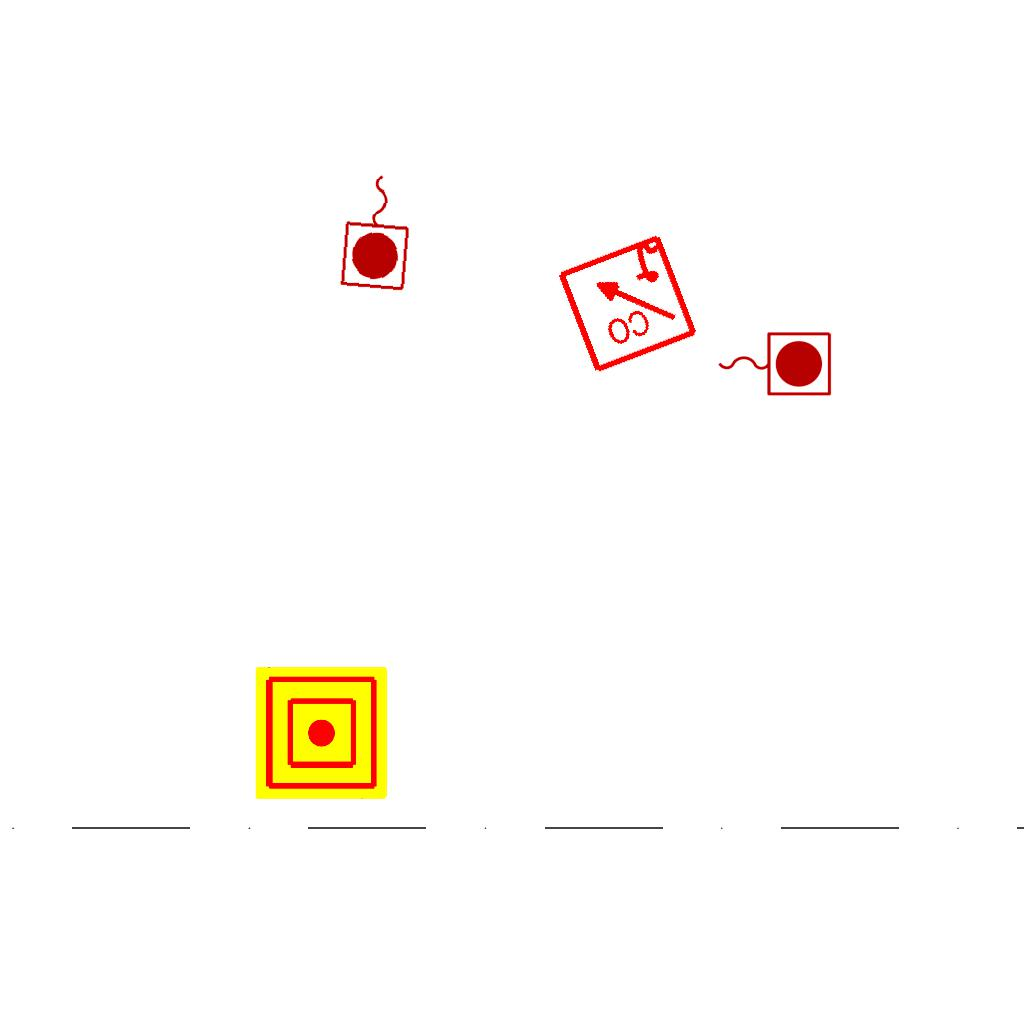NAM-Nichtautomatischer_Melder: (255, 667, 387, 799)
ROA_Rauchmelder_optisch_mit_Signalgeber_(Sockelsirene): (553, 229, 700, 376)
Zugtaster: (336, 167, 420, 295), (713, 327, 835, 399)
